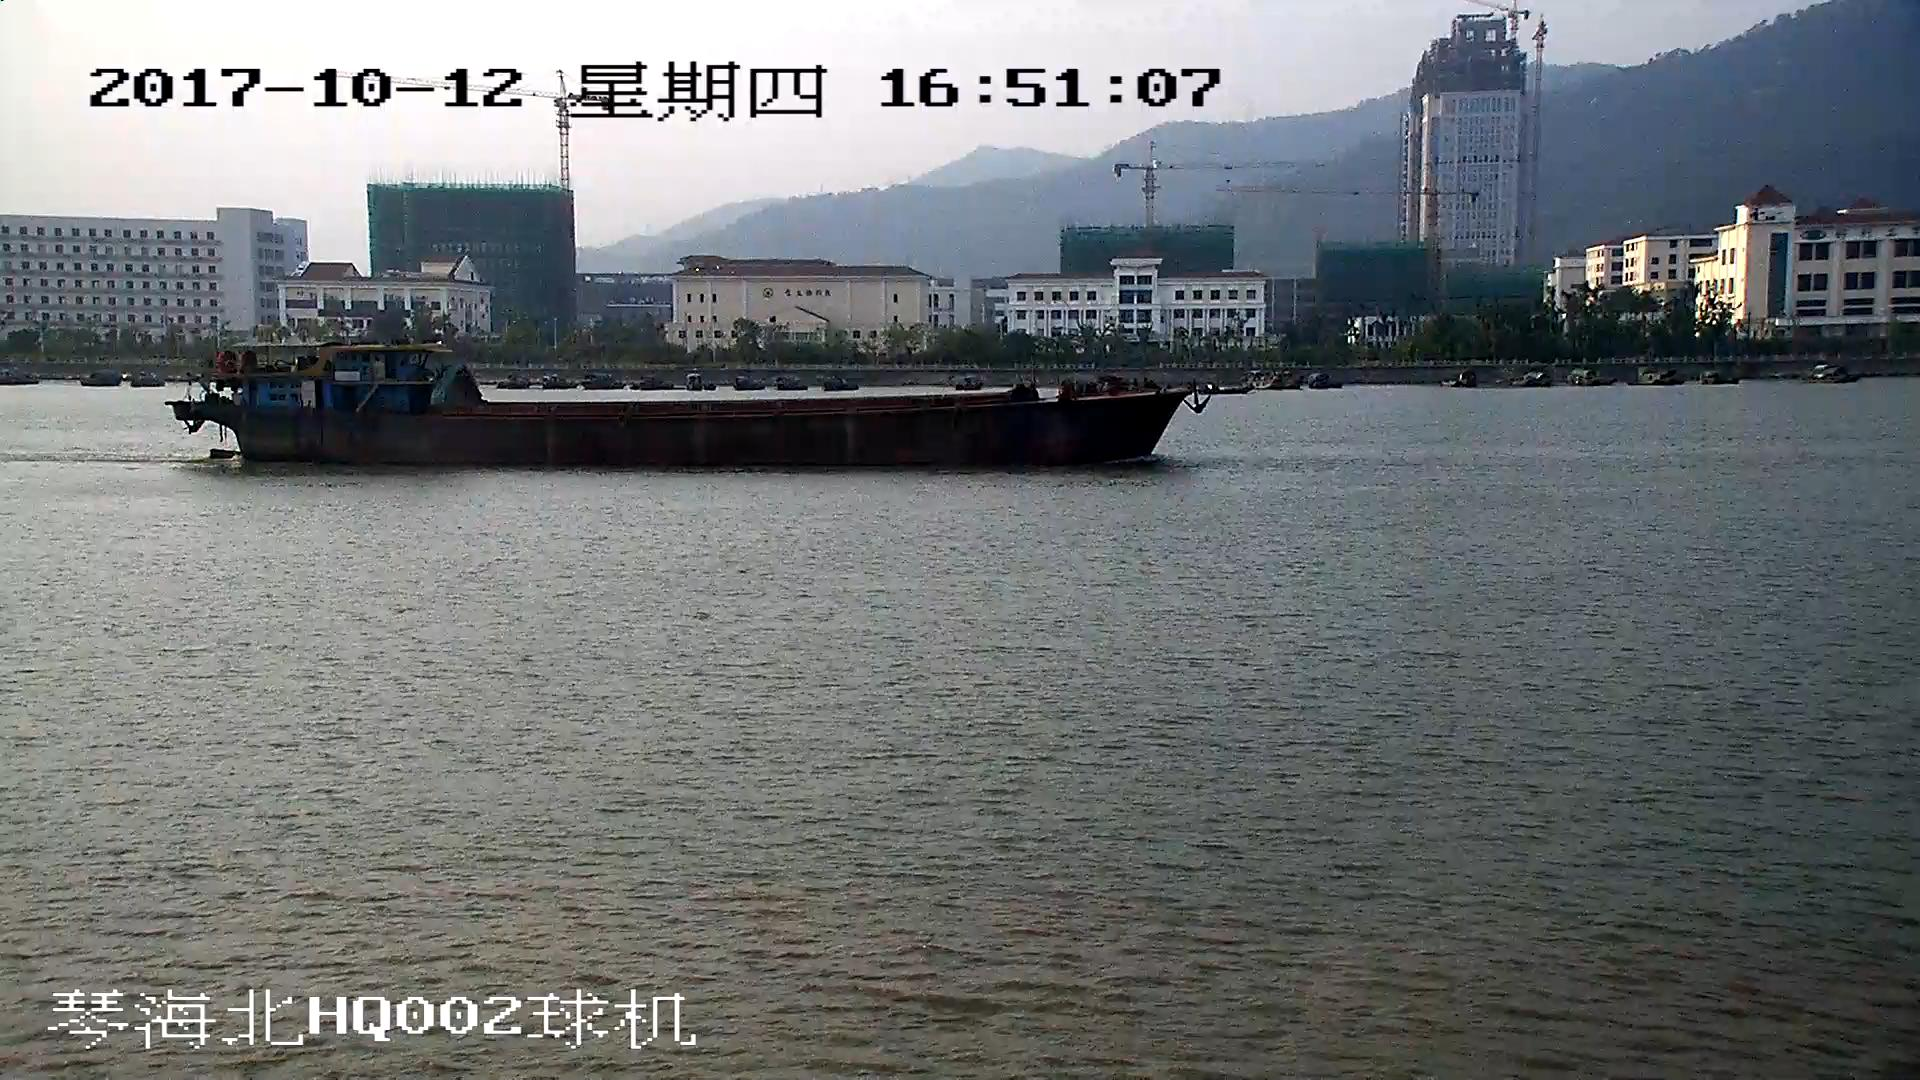bulk cargo carrier: (172, 333, 1194, 473)
